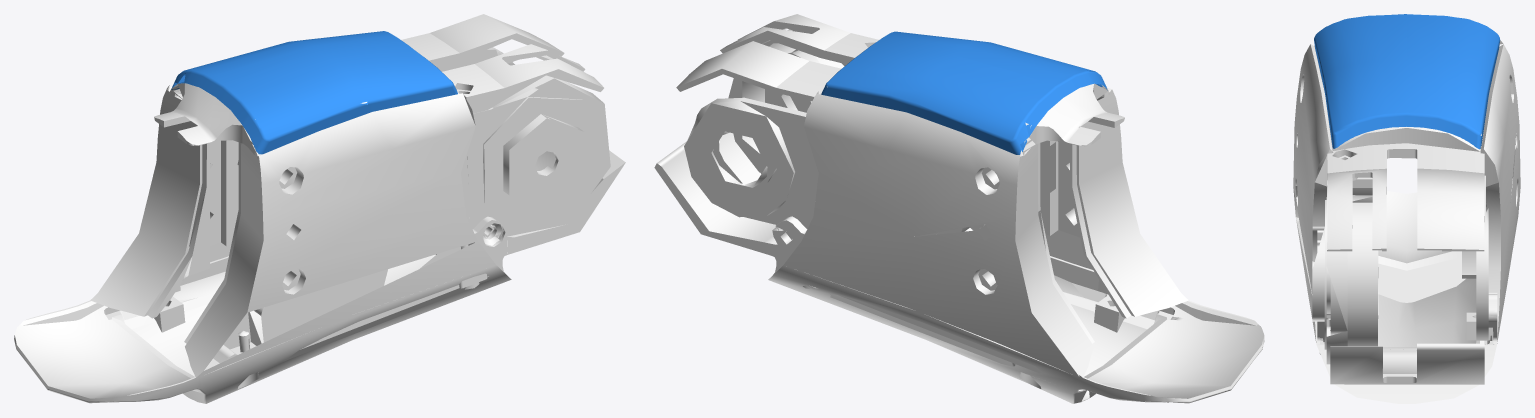
The model's file is hit-hand-2-finger-phaprox.dae.
3 views of the same model, side by side, from view 1: azimuth 30°, elevation 25°; view 2: azimuth 150°, elevation 25°; view 3: azimuth 270°, elevation 25° (orthographic). The views are drawn at different scales.
Visible parts, largest first — view 1: IndexedTriangleStripSet_2, IndexedTriangleStripSet_6, IndexedTriangleStripSet_10, IndexedTriangleStripSet, IndexedTriangleStripSet_14, IndexedTriangleStripSet_4, IndexedTriangleStripSet_8, IndexedTriangleStripSet_12; view 2: IndexedTriangleStripSet_2, IndexedTriangleStripSet_6, IndexedTriangleStripSet_10, IndexedTriangleStripSet, IndexedTriangleStripSet_14, IndexedTriangleStripSet_4, IndexedTriangleStripSet_8, IndexedTriangleStripSet_12; view 3: IndexedTriangleStripSet_2, IndexedTriangleStripSet_6, IndexedTriangleStripSet, IndexedTriangleStripSet_10, IndexedTriangleStripSet_4, IndexedTriangleStripSet_8, IndexedTriangleStripSet_14, IndexedTriangleStripSet_12.
Part boxes in pixels (x1,y1,x2,y2): IndexedTriangleStripSet_2: (14, 14, 624, 403); IndexedTriangleStripSet_6: (16, 33, 603, 403); IndexedTriangleStripSet_10: (20, 34, 610, 401); IndexedTriangleStripSet: (171, 31, 457, 154); IndexedTriangleStripSet_14: (18, 15, 625, 402); IndexedTriangleStripSet_4: (175, 32, 457, 149); IndexedTriangleStripSet_8: (172, 45, 453, 153); IndexedTriangleStripSet_12: (171, 42, 451, 150); IndexedTriangleStripSet_2: (657, 14, 1264, 403); IndexedTriangleStripSet_6: (657, 21, 1264, 402); IndexedTriangleStripSet_10: (654, 14, 1262, 402); IndexedTriangleStripSet: (822, 31, 1107, 154); IndexedTriangleStripSet_14: (677, 28, 1260, 402); IndexedTriangleStripSet_4: (821, 32, 1106, 153); IndexedTriangleStripSet_8: (825, 41, 1106, 154); IndexedTriangleStripSet_12: (932, 70, 1097, 150); IndexedTriangleStripSet_2: (1293, 40, 1520, 398); IndexedTriangleStripSet_6: (1293, 41, 1519, 403); IndexedTriangleStripSet: (1314, 14, 1499, 149); IndexedTriangleStripSet_10: (1295, 44, 1520, 403); IndexedTriangleStripSet_4: (1314, 16, 1498, 148); IndexedTriangleStripSet_8: (1315, 16, 1499, 147); IndexedTriangleStripSet_14: (1297, 45, 1506, 381); IndexedTriangleStripSet_12: (1325, 14, 1471, 136).
Size of the model in its own units: 0.0689 by 0.0374 by 0.0239.
